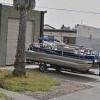Boat: (27, 28, 100, 74)
